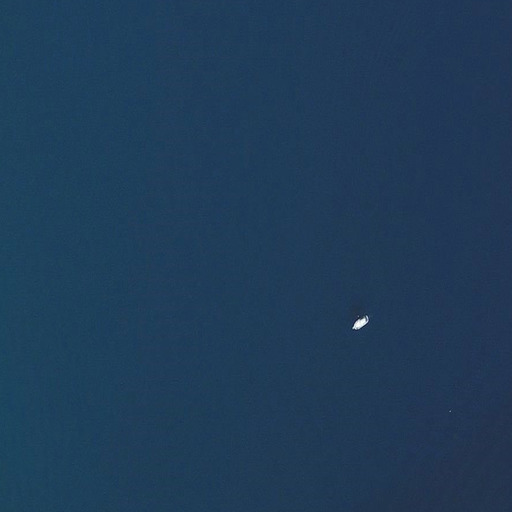ship: (345, 314, 373, 332)
